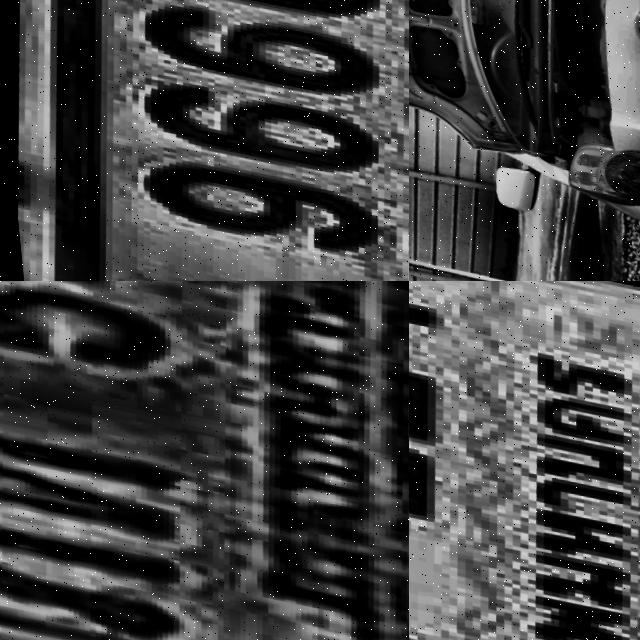license-plate: (0, 281, 409, 640), (0, 0, 409, 281), (409, 281, 640, 640)
